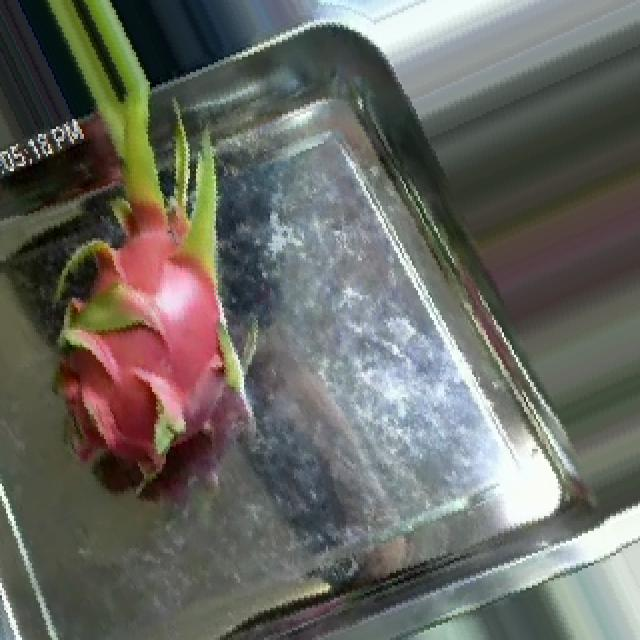fruit: (0, 77, 346, 528)
